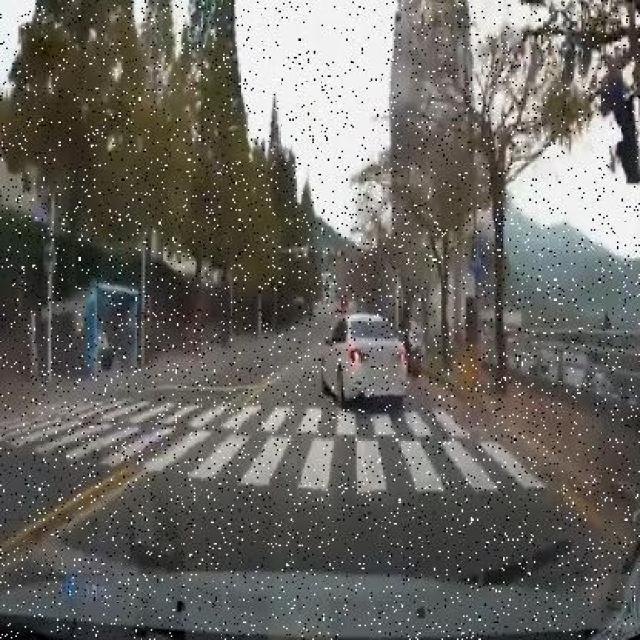crosswalk: (0, 415, 552, 488), (34, 400, 490, 435)
